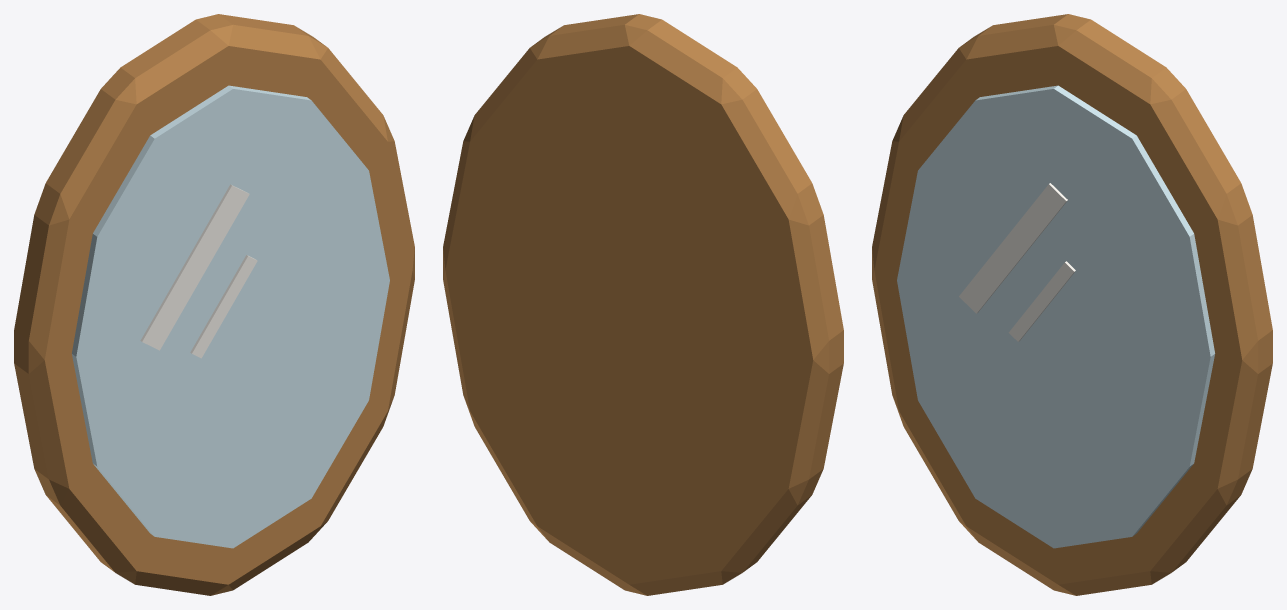
The model's file is oval_mirror.glb.
The picture shows the model from 3 angles, left to right: view 1: azimuth 30°, elevation 25°; view 2: azimuth 150°, elevation 25°; view 3: azimuth 330°, elevation 25°; orthographic projection.
Visible parts, largest first — view 1: oval_mirror; view 2: oval_mirror; view 3: oval_mirror.
Part boxes in pixels (x1,y1,x2,y2): oval_mirror: (14,14,414,595); oval_mirror: (443,14,843,595); oval_mirror: (872,14,1272,595).
Bounding box in the file's own units: 0.3938 × 0.5513 × 0.0615.
